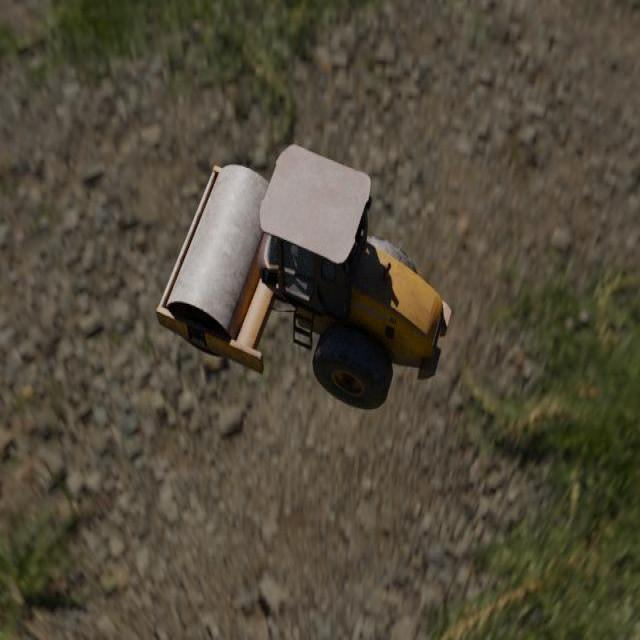Roller: (155, 144, 452, 409)
